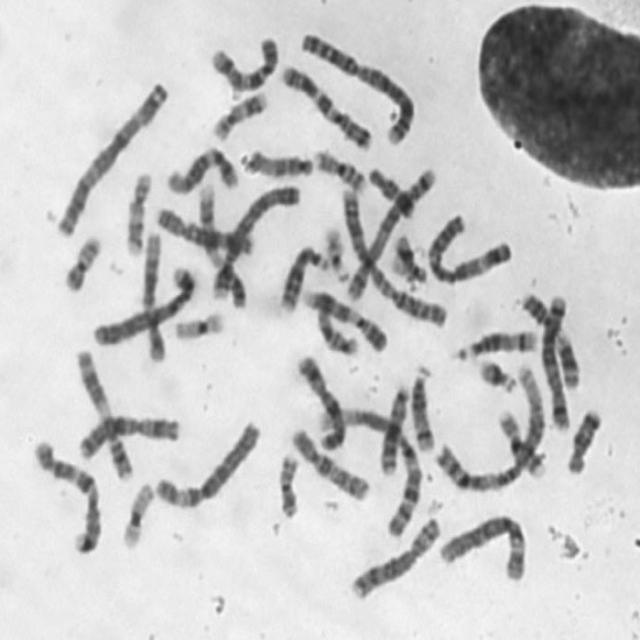A1: (430, 354, 548, 494), (312, 398, 424, 540)
A2: (337, 180, 451, 328), (296, 22, 418, 147)
A3: (50, 71, 172, 238), (422, 205, 515, 286)
B4: (206, 177, 302, 304), (88, 258, 198, 348)
B5: (342, 160, 441, 303), (537, 288, 574, 432)
C10: (284, 418, 372, 504), (204, 26, 281, 96)
C11: (70, 339, 136, 484), (514, 284, 582, 392)
C12: (161, 139, 240, 196), (138, 224, 168, 364)
C6: (150, 412, 263, 511), (434, 506, 529, 584)
C7: (276, 56, 376, 152), (28, 433, 106, 556)
C8: (344, 508, 444, 603), (150, 199, 256, 258)
C9: (192, 177, 248, 310), (298, 281, 390, 354)
D13: (276, 239, 332, 314), (374, 378, 413, 477)
D14: (452, 322, 540, 361), (407, 356, 438, 454)
D15: (238, 141, 317, 180), (310, 297, 361, 356)
E16: (492, 400, 549, 480), (308, 141, 369, 194)
E17: (206, 83, 271, 142), (119, 163, 154, 258)
E18: (562, 400, 605, 476), (364, 159, 418, 219)
F19: (116, 474, 158, 552), (169, 303, 227, 343)
F20: (58, 227, 104, 293), (273, 445, 302, 520)
G21: (388, 227, 428, 287), (473, 350, 519, 394)
G22: (388, 227, 428, 287), (318, 219, 351, 283)
X: (150, 199, 256, 258), (290, 348, 347, 453)
